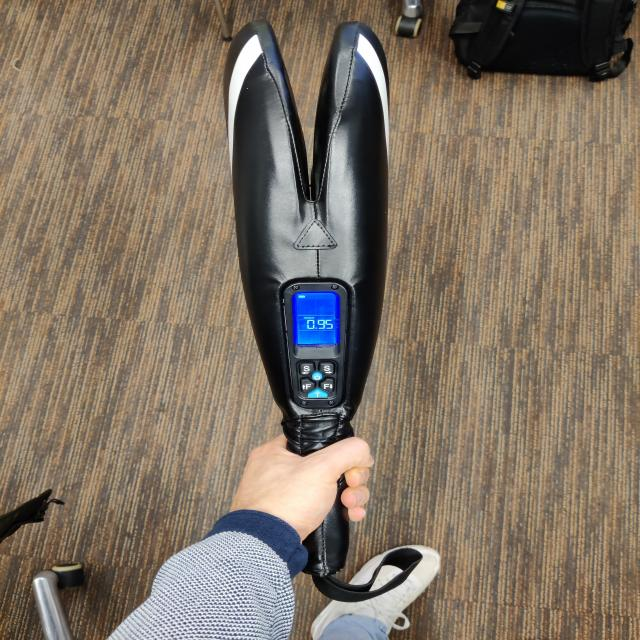paddle: (218, 12, 394, 574)
